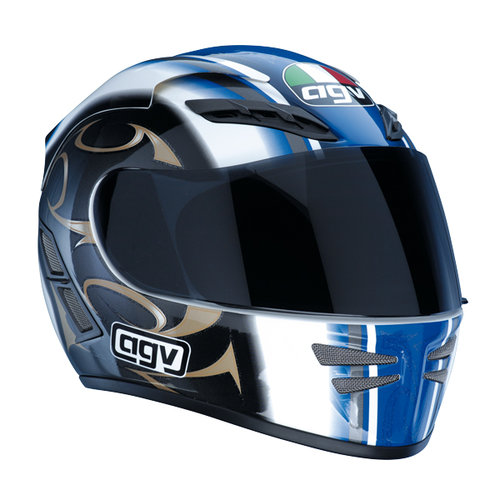helmet: (35, 44, 457, 447)
